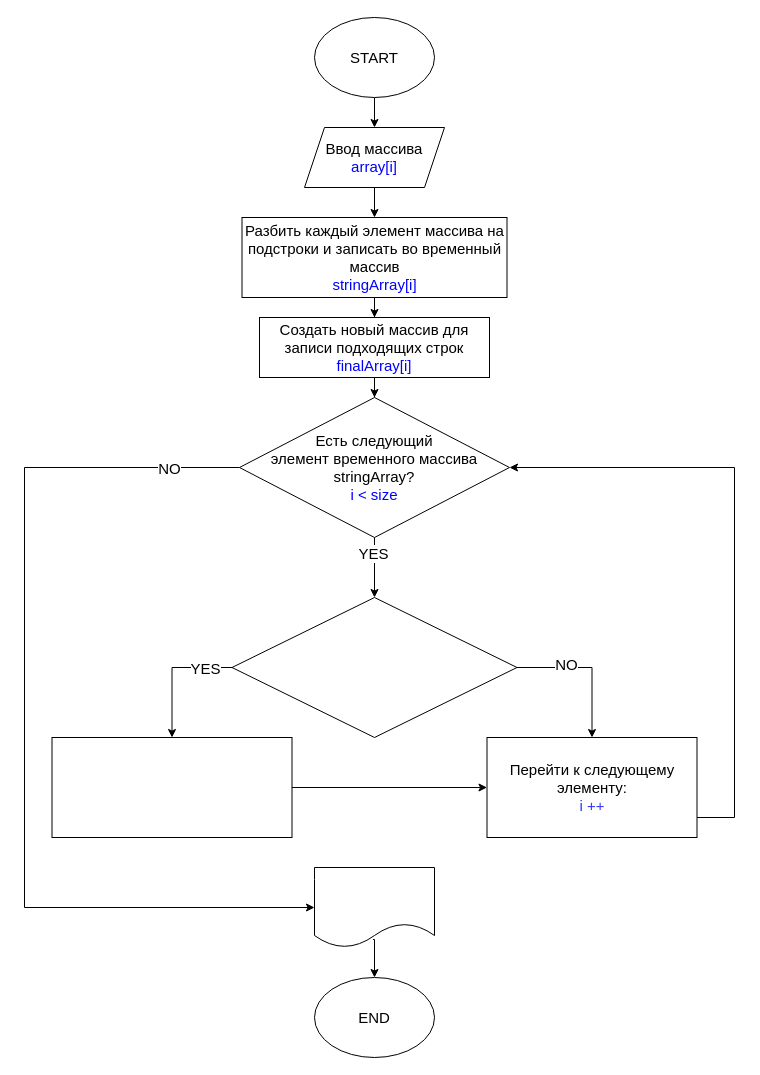
The diagram is 760 pixels wide and 1075 high, and some of its shapes have lost their labels. The centre of each missing label's shape, as x and y in pixels:
Вывести новый массив: the point at 374,907
Записать элемент в новый массив: finalArray[i] = stringArray[i]: the point at 171,787
Элемент состоит из трех символов и меньше? stringArray[i].Length <= 3: the point at 374,667
